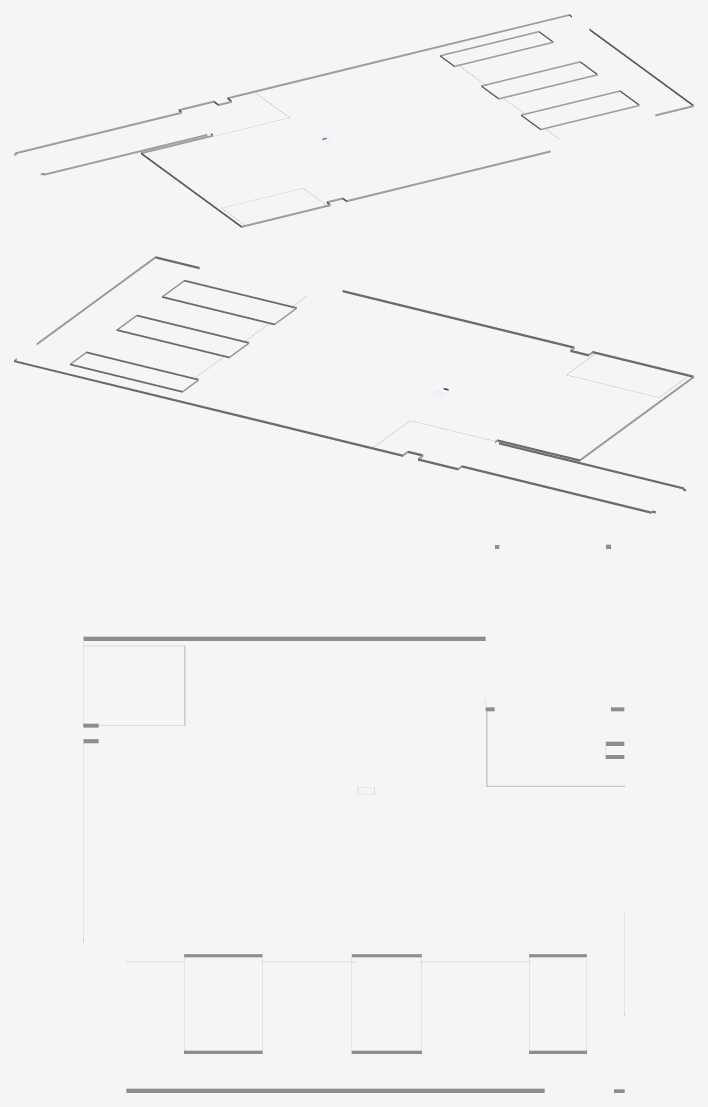
File: ENCAP_PARTS.fbx
3 renders of one model, top to bottom at view 1: azimuth 30°, elevation 25°; view 2: azimuth 150°, elevation 25°; view 3: azimuth 270°, elevation 25°, orthographic. The views are drawn at different scales.
Visible parts, largest first — view 1: polySurface1666, polySurface1669, polySurface1665, polySurface1664, polySurface1663, polySurface1668, polySurface1667; view 2: polySurface1666, polySurface1669, polySurface1665, polySurface1664, polySurface1663, polySurface1668, polySurface1667; view 3: polySurface1669, polySurface1667.
Boxes of the visible parts, x1,y1,x2,y2 form: polySurface1666: (14,14,571,155); polySurface1669: (141,133,550,227); polySurface1665: (521,90,639,130); polySurface1664: (481,61,597,99); polySurface1663: (440,31,553,66); polySurface1668: (40,134,207,175); polySurface1667: (589,28,693,116); polySurface1666: (14,358,655,513); polySurface1669: (342,290,693,461); polySurface1665: (162,279,296,325); polySurface1664: (116,314,249,358); polySurface1663: (70,351,198,392); polySurface1668: (499,442,685,491); polySurface1667: (36,256,199,344); polySurface1669: (83,636,494,942); polySurface1667: (126,1088,544,1092).
Size of the model in its own units: 1814 by 11.1 by 760.
Materials: 3 (1 with a texture image).
